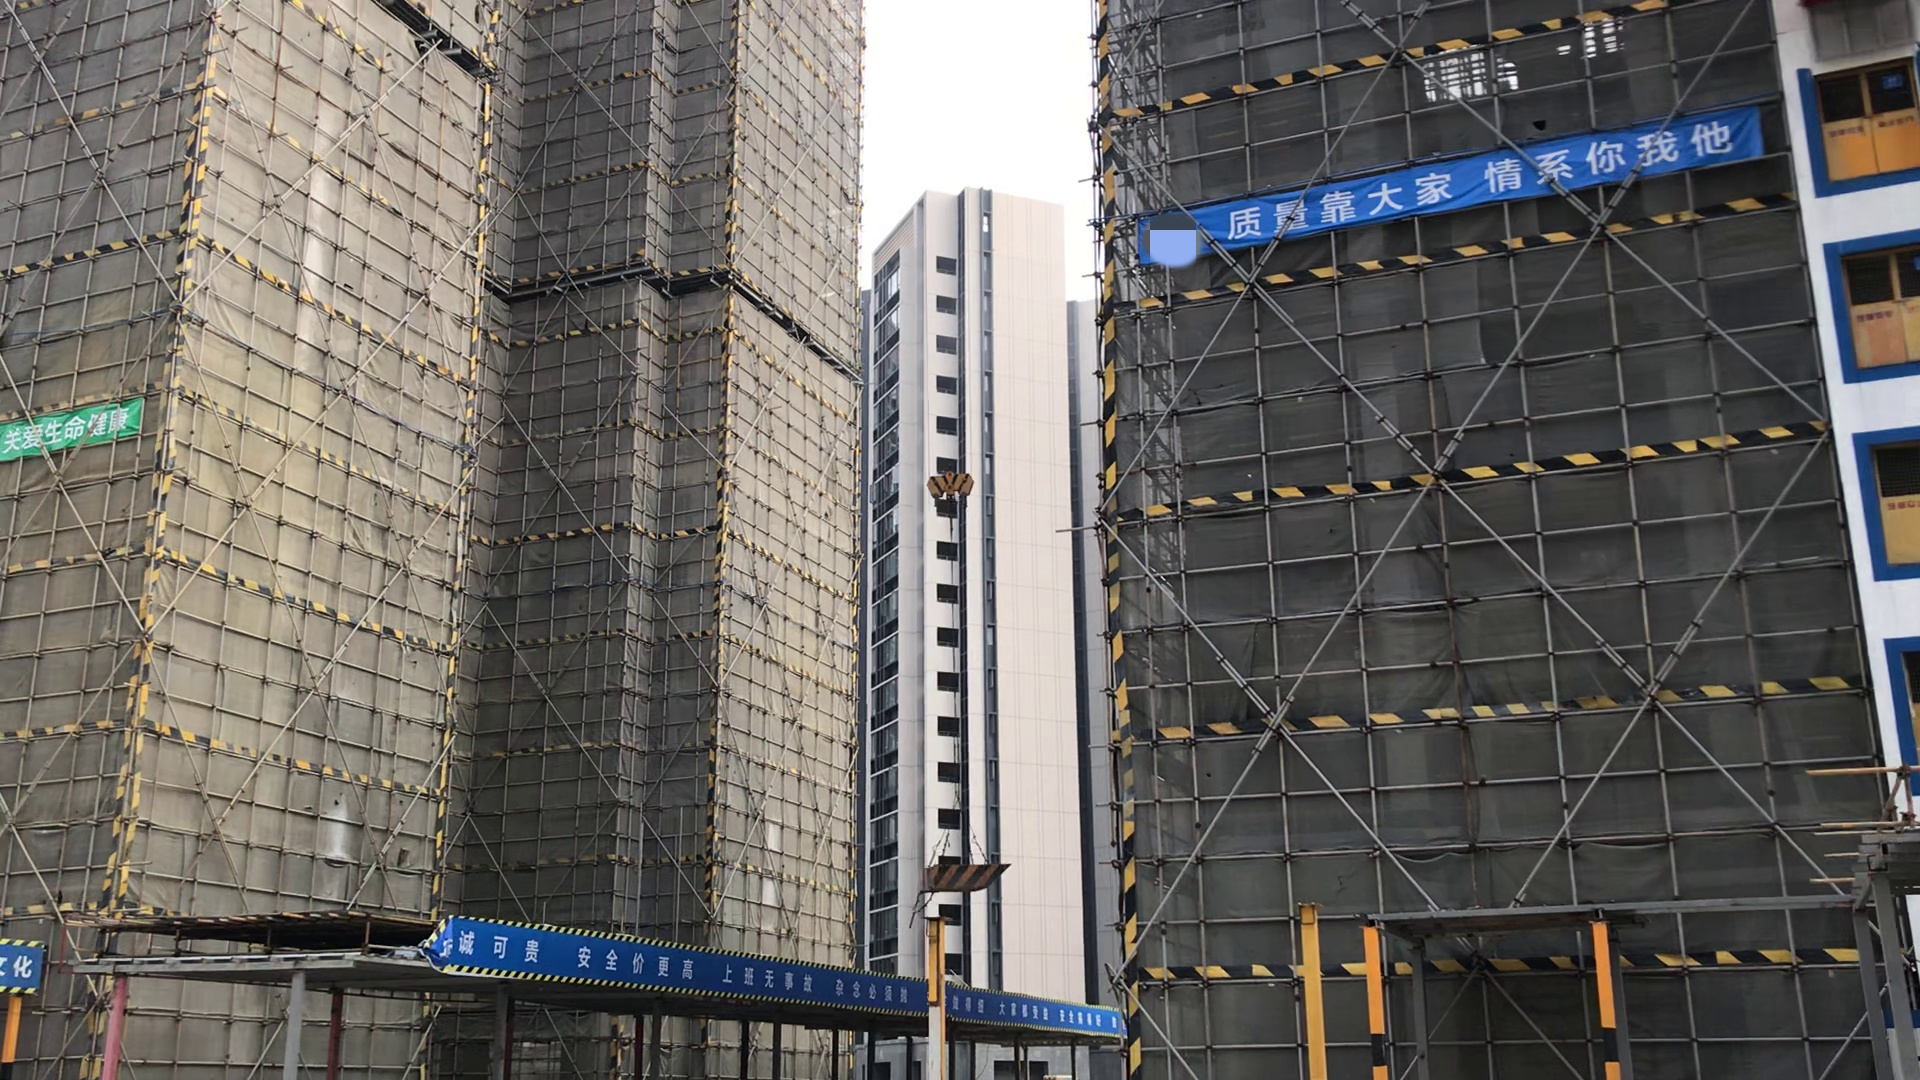hook: (920, 458, 978, 524)
hopper: (913, 848, 1005, 897)
slogan: (1167, 113, 1759, 264), (459, 919, 1118, 1036), (1, 394, 148, 467)
